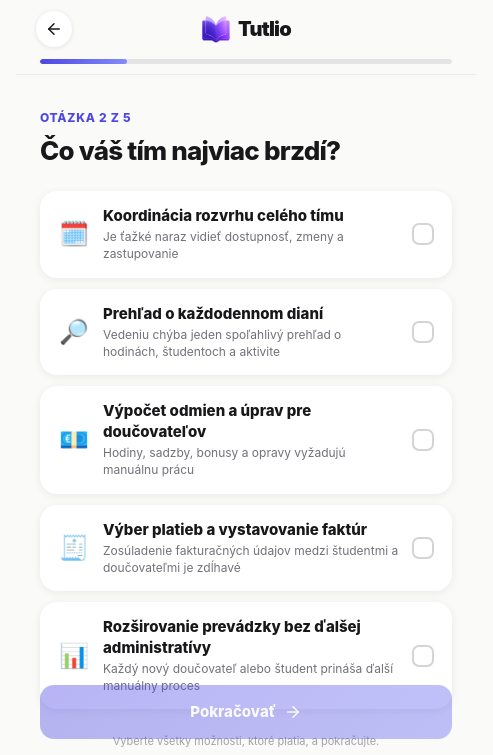
Test case: Slovak quiz interface › retains Slovak on the business challenge-to-insight transition
Expected: the button with test id "floating-proceed" is disabled, [40,685,452,739]
Step 1. Click the checkbox labelled "Koordinácia rozvrhu celého tímu" → (246, 234), box [40,191,452,278]
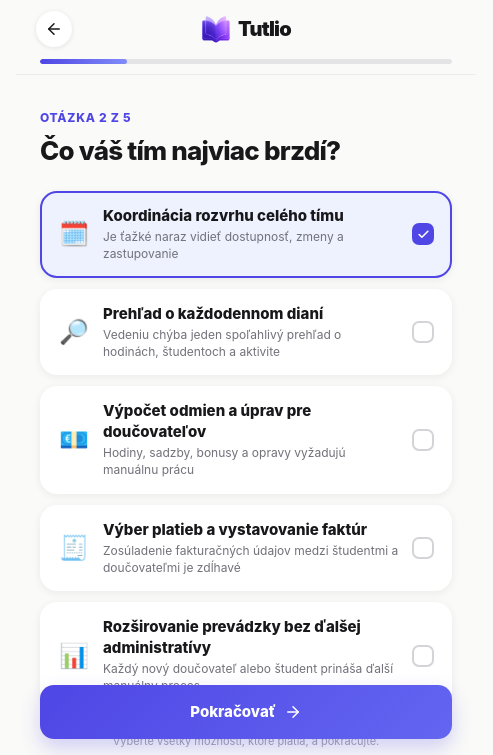
Step 2. Click the checkbox labelled "Výpočet odmien a úprav pre doučovateľov" → (207, 411), box [40,386,452,494]
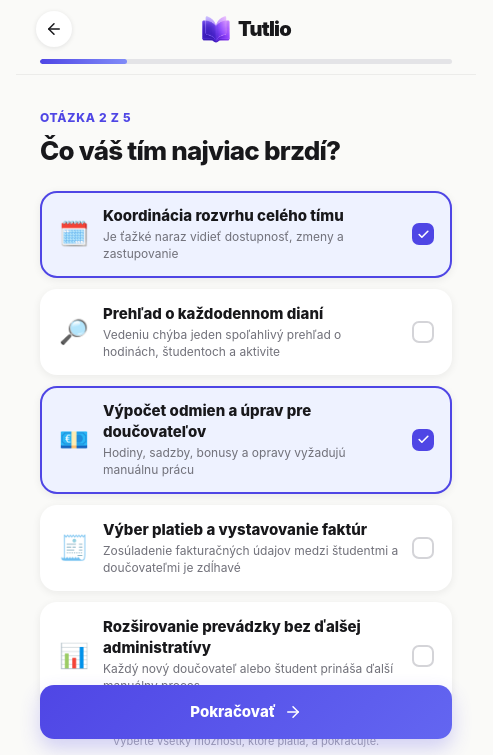
Expected: the button with test id "floating-proceed" is enabled
Step 3. Click the button with test id "floating-proceed" → (246, 712), box [40,685,452,739]
Wait 500 ms
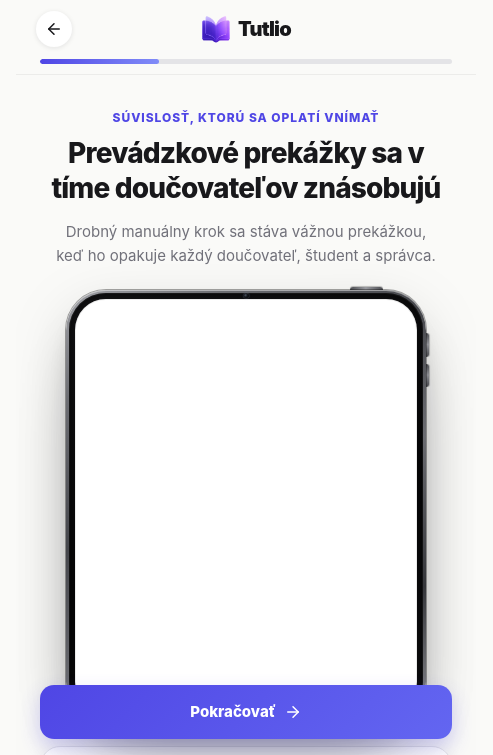
Expected: the heading "Prevádzkové prekážky sa v tíme doučovateľov znásobujú" is shown, [51,136,441,206]
